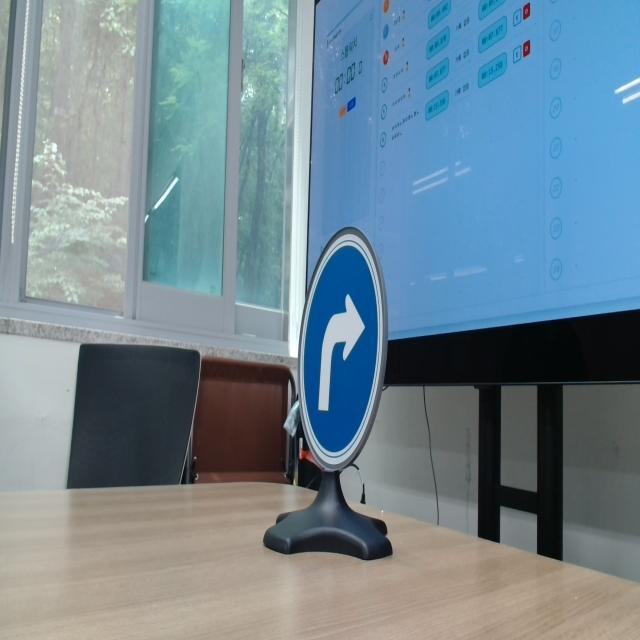right_dierection: (288, 202, 400, 489)
